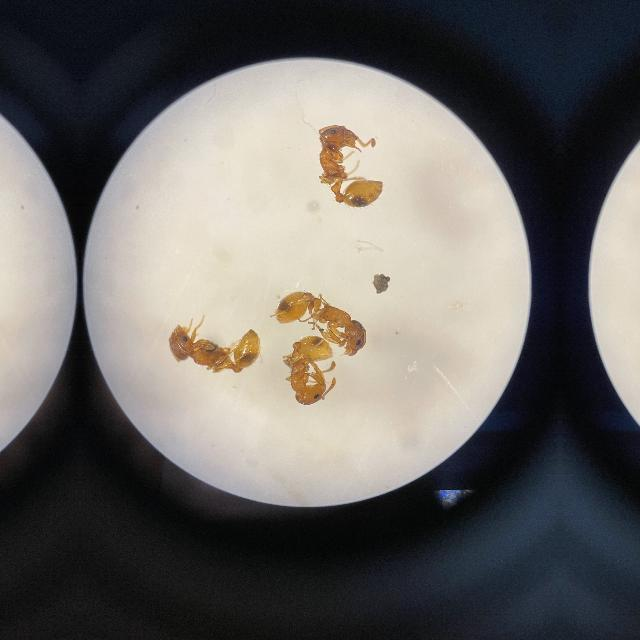Temnothorax: (262, 266, 384, 346), (150, 306, 264, 378), (308, 118, 392, 212), (272, 328, 352, 407)
